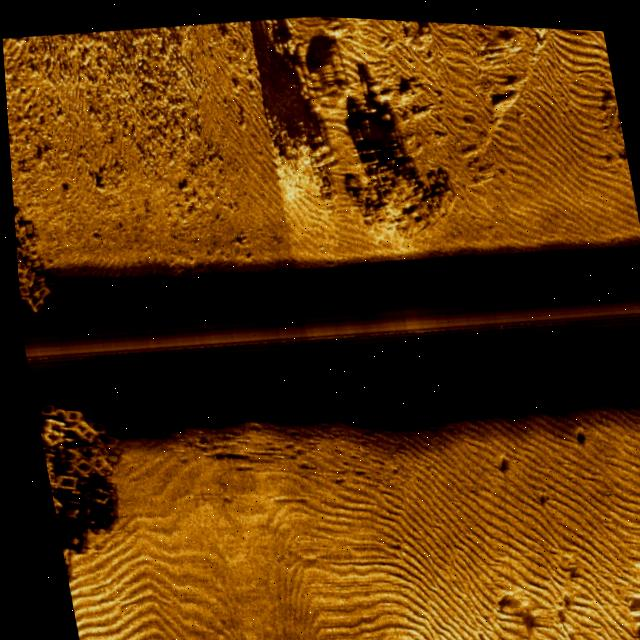artificial reef: (28, 391, 106, 529), (11, 215, 65, 326)
